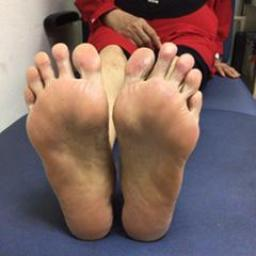Plantar View -Both Feet-: (17, 36, 214, 244)
